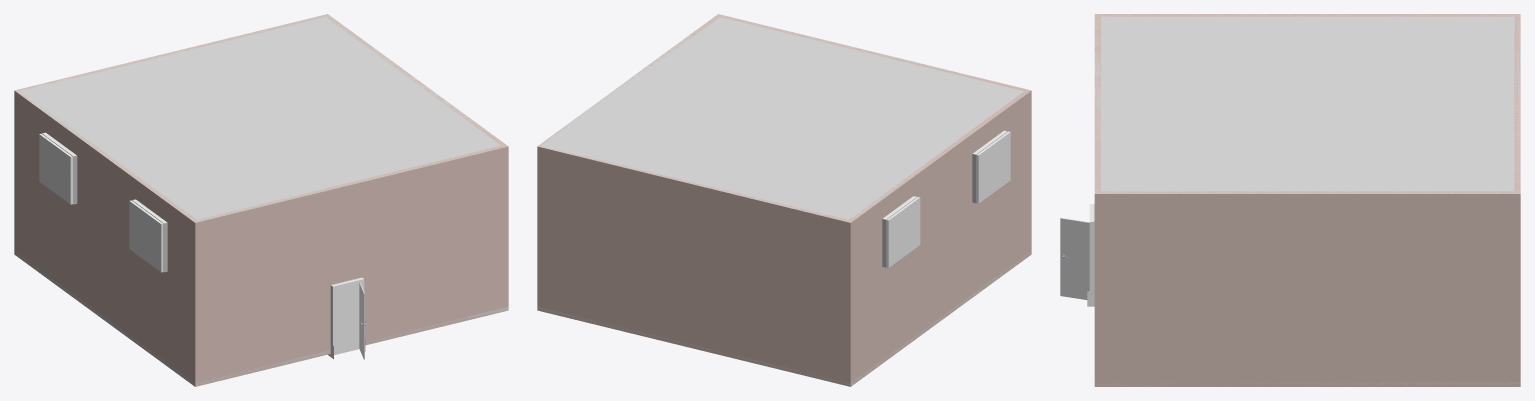
File: building1.fbx
3 renders of one model, left to right at view 1: azimuth 30°, elevation 25°; view 2: azimuth 150°, elevation 25°; view 3: azimuth 270°, elevation 25°, orthographic. The views are drawn at different scales.
Parts seen in each view (by area): view 1: Room, Ceiling, CTRL_Hole, CTRL_Hole.001, CTRL_Hole.002, Baseboard; view 2: Room, Ceiling, CTRL_Hole.001, CTRL_Hole.002, Baseboard; view 3: Room, Ceiling, Door, Baseboard, CTRL_Hole.
Boxes of the visible parts, bbox=[...] form: Room: bbox=[14, 14, 508, 386]; Ceiling: bbox=[16, 14, 506, 222]; CTRL_Hole: bbox=[331, 278, 364, 355]; CTRL_Hole.001: bbox=[129, 199, 166, 272]; CTRL_Hole.002: bbox=[39, 132, 76, 204]; Baseboard: bbox=[14, 251, 508, 386]; Room: bbox=[537, 14, 1031, 386]; Ceiling: bbox=[538, 14, 1023, 222]; CTRL_Hole.001: bbox=[972, 130, 1010, 203]; CTRL_Hole.002: bbox=[882, 196, 920, 267]; Baseboard: bbox=[537, 251, 1031, 386]; Room: bbox=[1094, 14, 1520, 386]; Ceiling: bbox=[1094, 14, 1520, 193]; Door: bbox=[1060, 218, 1089, 299]; Baseboard: bbox=[1095, 382, 1520, 386]; CTRL_Hole: bbox=[1089, 204, 1094, 302].
Bounding box in the file's own units: 1021 × 510 × 1081.
